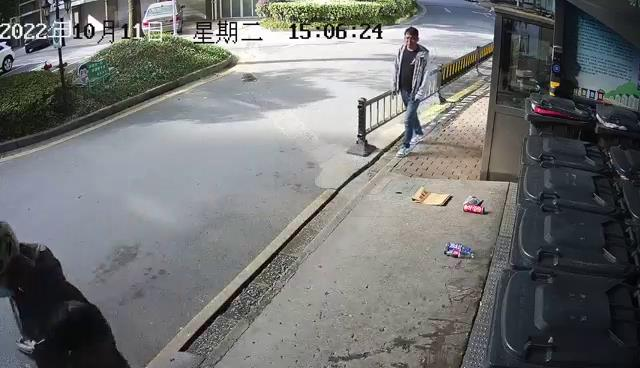lvzhipin: (442, 239, 477, 261), (461, 201, 487, 215)
person: (1, 220, 132, 368), (390, 25, 432, 158)
zhizhipin: (410, 184, 453, 208)
